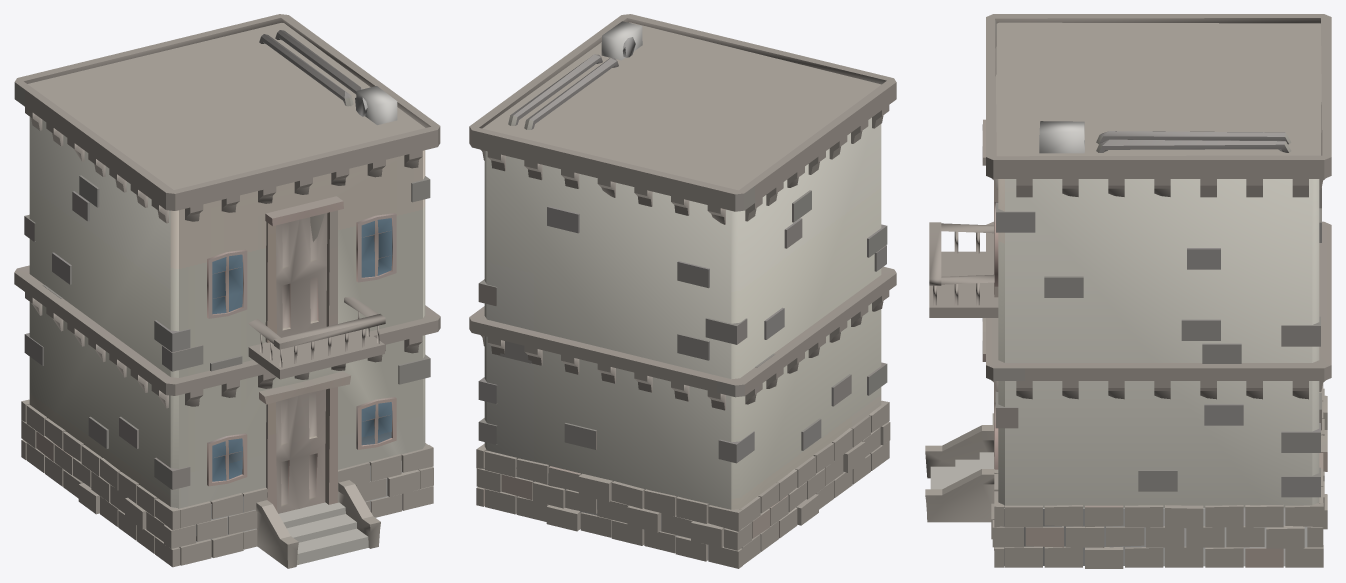
The model's file is motel-balcony.glb.
The picture shows the model from 3 angles, left to right: view 1: azimuth 30°, elevation 25°; view 2: azimuth 150°, elevation 25°; view 3: azimuth 270°, elevation 25°; orthographic projection. The views are drawn at different scales.
Visible parts, largest first — view 1: 2Story_Balcony; view 2: 2Story_Balcony; view 3: 2Story_Balcony.
Boxes of the visible parts, <box> form: 2Story_Balcony: <box>14,14,440,568</box>; 2Story_Balcony: <box>469,14,896,568</box>; 2Story_Balcony: <box>925,14,1331,568</box>.
Size of the model in its own units: 0.8525 by 1.16 by 1.
1 material, 1 textured.
